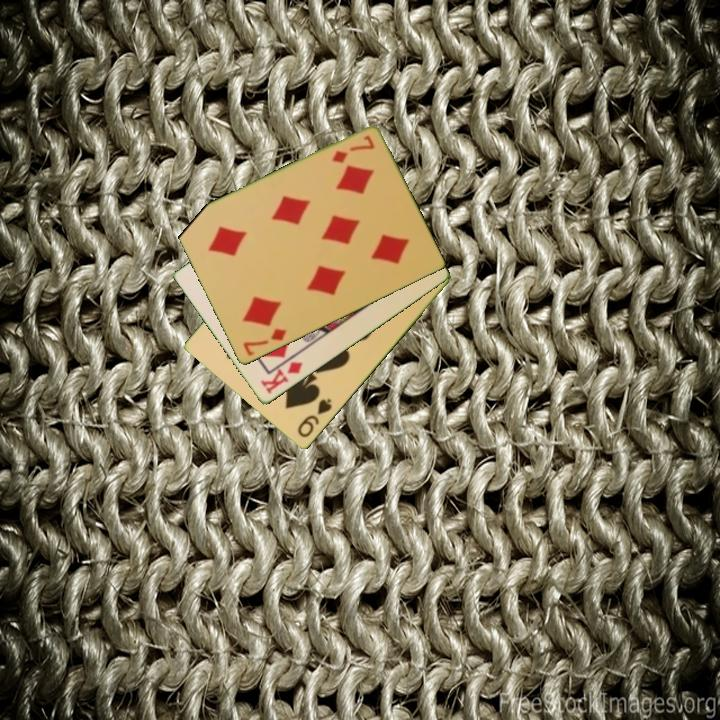7d: (328, 132, 377, 167), (239, 325, 289, 359)
9s: (294, 395, 335, 441)
Kd: (257, 358, 305, 398)
